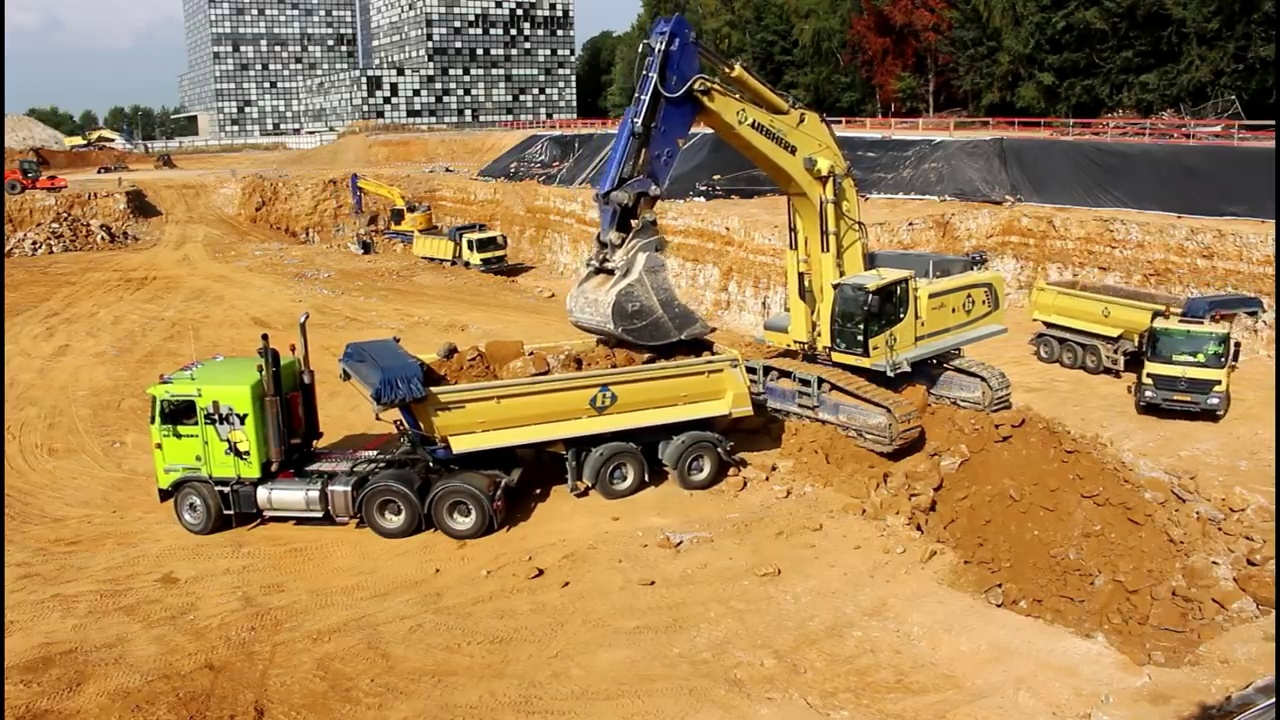compactor: (5, 161, 71, 196)
excavator: (560, 7, 1023, 459), (343, 165, 452, 262), (64, 124, 150, 164)
truck: (142, 310, 760, 544), (1028, 274, 1268, 428), (409, 221, 515, 286)
